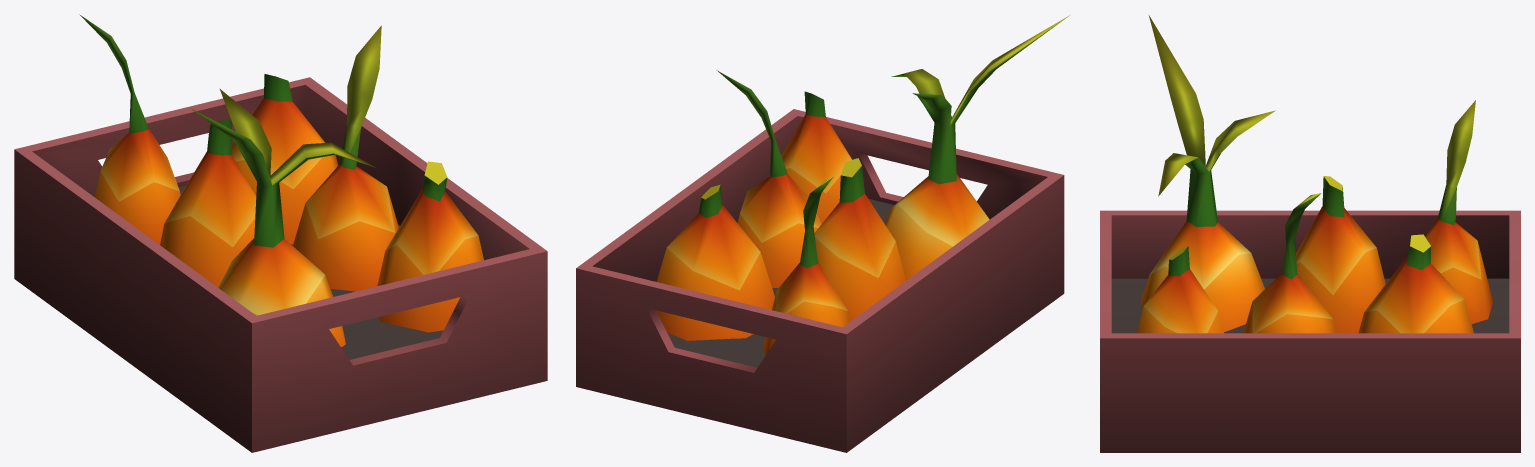
File: TSP_Store_Box_02A.fbx
The picture shows the model from 3 angles, left to right: view 1: azimuth 30°, elevation 25°; view 2: azimuth 150°, elevation 25°; view 3: azimuth 270°, elevation 25°; orthographic projection. The views are drawn at different scales.
Visible parts, largest first — view 1: TSP_Store_Box_02A; view 2: TSP_Store_Box_02A; view 3: TSP_Store_Box_02A.
Part boxes in pixels (x1,y1,x2,y2): TSP_Store_Box_02A: [14, 14, 547, 452]; TSP_Store_Box_02A: [576, 15, 1069, 452]; TSP_Store_Box_02A: [1100, 15, 1520, 452].
Bounding box in the file's own units: 0.3504 × 0.3379 × 0.4356.
